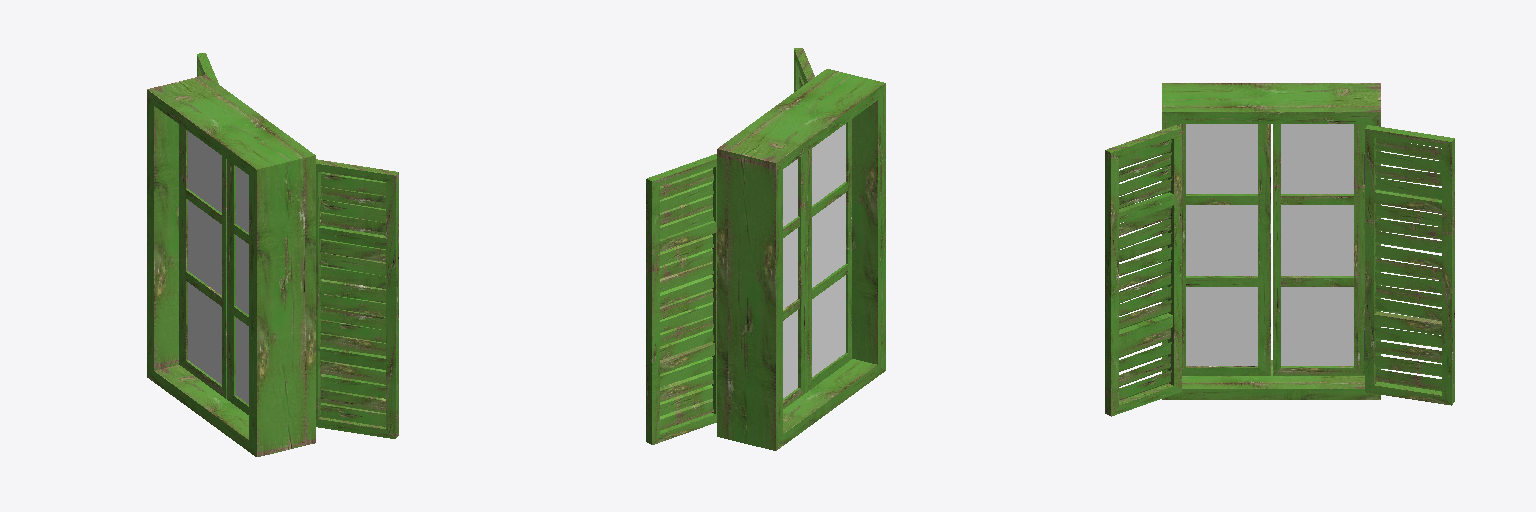
3 renders of one model, left to right at view 1: azimuth 30°, elevation 25°; view 2: azimuth 150°, elevation 25°; view 3: azimuth 270°, elevation 25°, orthographic.
Parts seen in each view (by area): view 1: Rectangle02, Rectangle03, Box02, Rectangle05, Box01, Rectangle01; view 2: Rectangle02, Rectangle04, Box01, Rectangle01, Box02, Rectangle05, Rectangle03; view 3: Rectangle04, Rectangle03, Box02, Box01, Rectangle02, Rectangle05, Rectangle01.
Boxes of the visible parts, x1,y1,x2,y2 form: Rectangle02: [147, 75, 315, 456]; Rectangle03: [316, 159, 398, 438]; Box02: [188, 131, 221, 384]; Rectangle05: [179, 125, 226, 398]; Box01: [236, 166, 248, 403]; Rectangle01: [227, 160, 248, 414]; Rectangle02: [717, 69, 885, 450]; Rectangle04: [646, 154, 716, 444]; Box01: [812, 124, 845, 376]; Rectangle01: [805, 119, 851, 392]; Box02: [783, 159, 797, 397]; Rectangle05: [783, 154, 804, 408]; Rectangle03: [794, 48, 814, 91]; Rectangle04: [1365, 125, 1454, 405]; Rectangle03: [1105, 125, 1181, 416]; Box02: [1281, 124, 1353, 365]; Box01: [1186, 124, 1257, 365]; Rectangle02: [1162, 83, 1380, 399]; Rectangle05: [1273, 124, 1366, 375]; Rectangle01: [1177, 124, 1270, 375].
Size of the model in its own units: 0.6812 by 1.6 by 1.76.
3 materials, 1 textured.